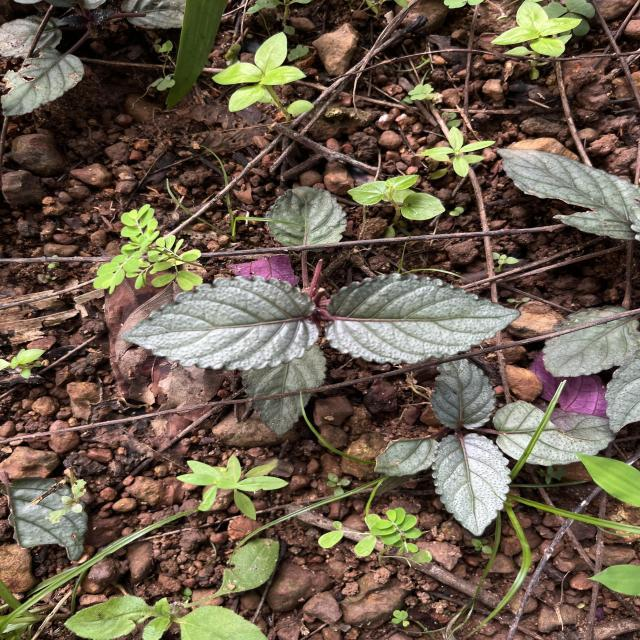Hemigraphis colorata: (116, 270, 323, 372), (322, 270, 524, 367), (492, 144, 640, 244), (428, 429, 512, 538), (490, 398, 620, 468), (238, 343, 330, 438), (540, 302, 640, 378), (426, 344, 498, 432), (262, 184, 351, 255), (602, 342, 640, 436)
